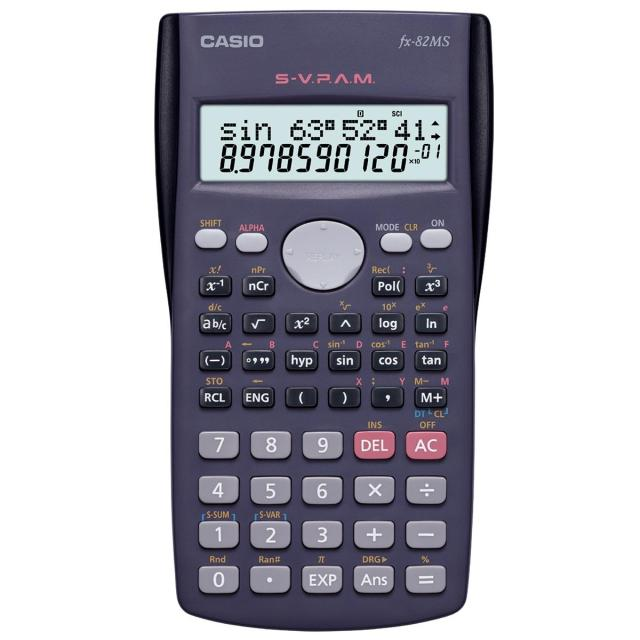Calculator: (121, 0, 515, 640)
